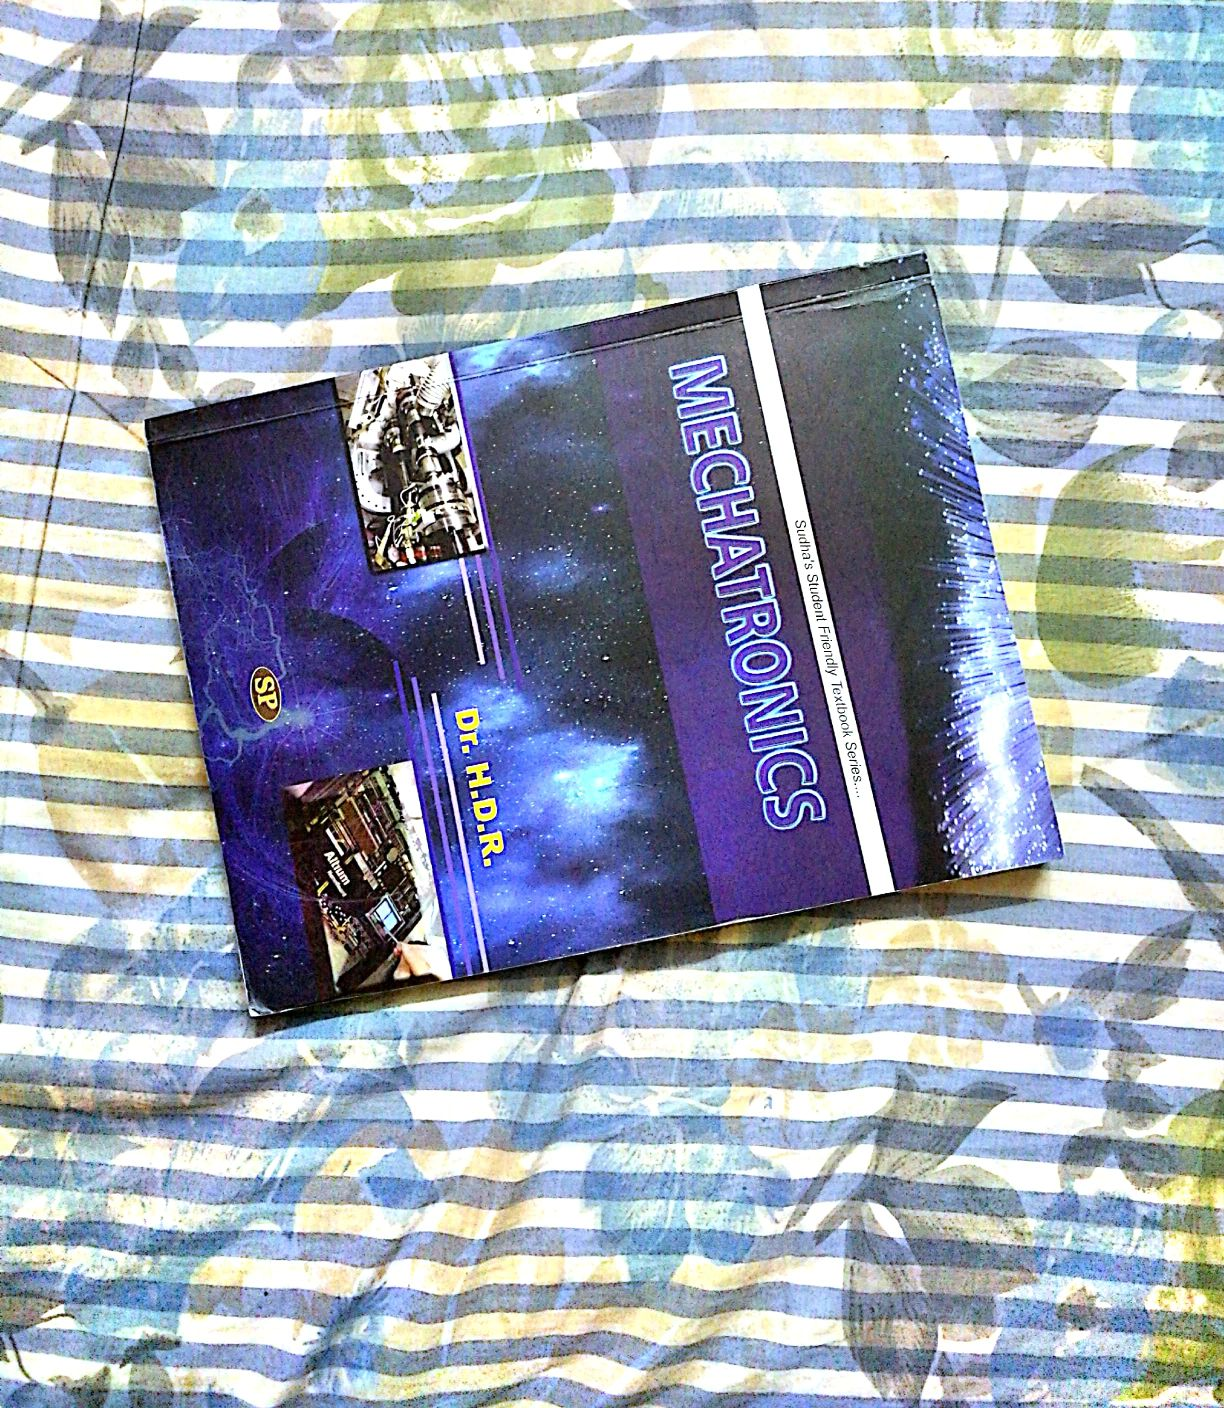mechatronics: (143, 281, 1087, 987)
